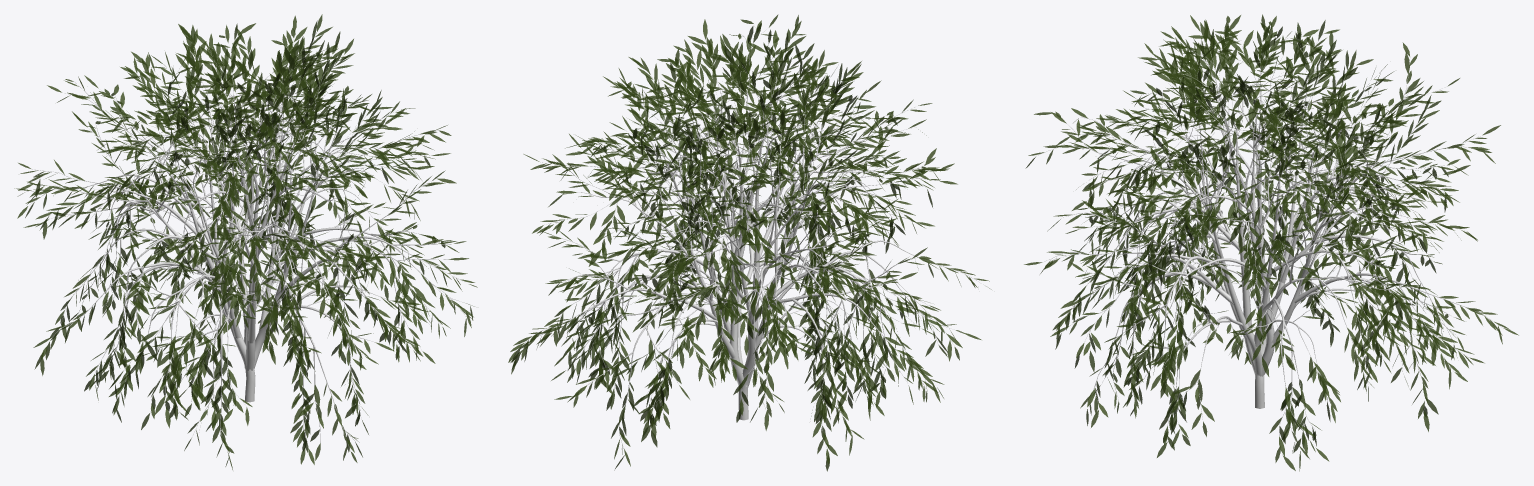
File: Tree 2.fbx
3 views of the same model, side by side, from view 1: azimuth 30°, elevation 25°; view 2: azimuth 150°, elevation 25°; view 3: azimuth 270°, elevation 25° (orthographic). The views are drawn at different scales.
Visible parts, largest first — view 1: leaves 2, Tree 2; view 2: leaves 2, Tree 2; view 3: leaves 2, Tree 2.
Boxes of the visible parts, bbox=[...] form: leaves 2: bbox=[14, 14, 477, 469]; Tree 2: bbox=[26, 32, 469, 455]; leaves 2: bbox=[508, 14, 991, 471]; Tree 2: bbox=[518, 24, 979, 448]; leaves 2: bbox=[1024, 14, 1518, 471]; Tree 2: bbox=[1038, 25, 1502, 454].
Bounding box in the file's own units: 836 × 767 × 870.
